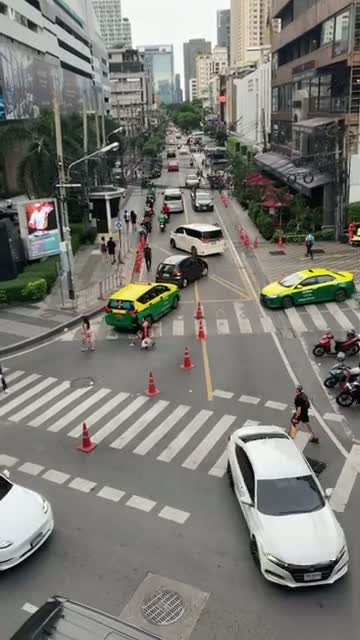bike: (312, 327, 359, 356), (323, 351, 359, 387), (335, 374, 359, 407), (157, 210, 165, 232)
car: (226, 424, 349, 589), (9, 594, 169, 640), (0, 468, 54, 571), (259, 267, 355, 309), (103, 281, 181, 329), (169, 223, 224, 256), (155, 254, 208, 287), (190, 188, 214, 211), (161, 188, 183, 212), (184, 174, 199, 188)
pedestrian: (288, 384, 318, 443), (79, 315, 95, 351), (139, 316, 155, 350), (127, 310, 142, 346), (142, 243, 152, 272), (304, 232, 314, 260), (106, 236, 116, 264), (100, 236, 108, 263), (129, 209, 137, 232), (123, 209, 129, 234), (228, 181, 234, 199)
